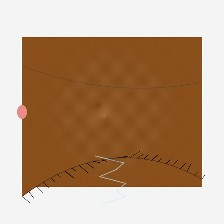foreign_body_visible: (84, 125, 121, 155)
